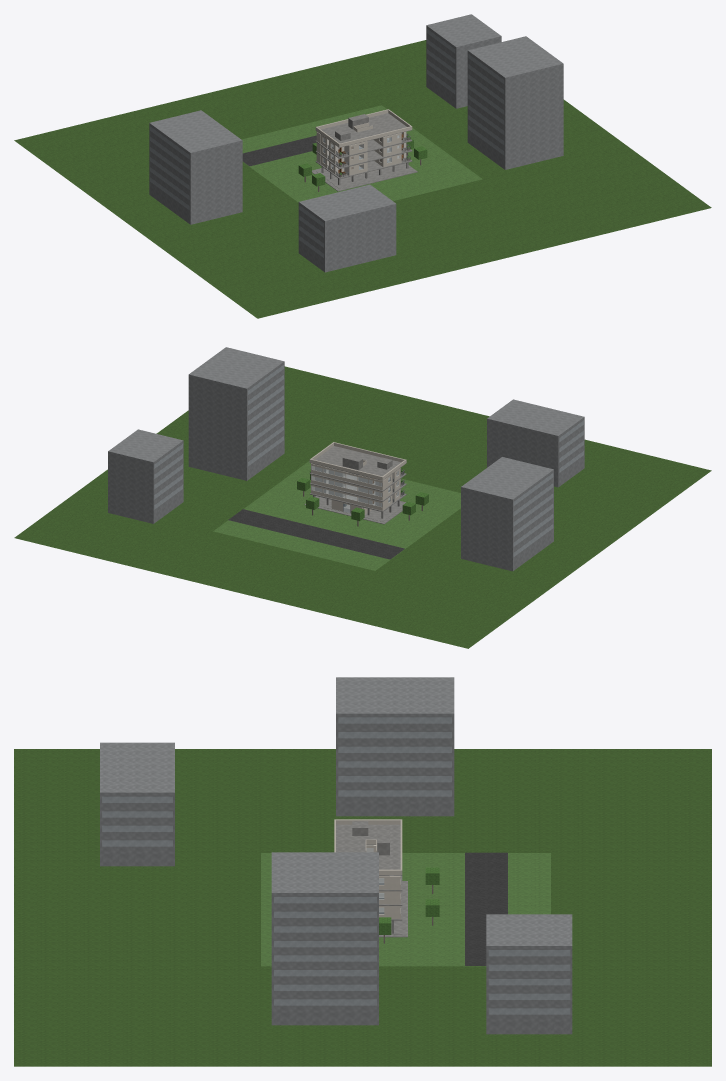
3 views of the same model, one above another, from view 1: azimuth 30°, elevation 25°; view 2: azimuth 150°, elevation 25°; view 3: azimuth 270°, elevation 25° (orthographic). The views are drawn at different scales.
Visible parts, largest first — view 1: merged_WalkthroughVisualizer_Scene, merged_LEVEL__ROOF, merged_LEVEL__L03, merged_LEVEL__L01, merged_LEVEL__L02, merged_LEVEL__L00; view 2: merged_WalkthroughVisualizer_Scene, merged_LEVEL__ROOF, merged_LEVEL__L03, merged_LEVEL__L02, merged_LEVEL__L01, merged_LEVEL__L00; view 3: merged_WalkthroughVisualizer_Scene, merged_LEVEL__ROOF.
Part boxes in pixels (bbox=[...]): merged_WalkthroughVisualizer_Scene: bbox=[14, 14, 711, 318]; merged_LEVEL__ROOF: bbox=[315, 109, 412, 147]; merged_LEVEL__L03: bbox=[315, 132, 412, 158]; merged_LEVEL__L01: bbox=[315, 153, 412, 179]; merged_LEVEL__L02: bbox=[315, 142, 412, 168]; merged_LEVEL__L00: bbox=[316, 164, 411, 188]; merged_WalkthroughVisualizer_Scene: bbox=[14, 347, 711, 648]; merged_LEVEL__ROOF: bbox=[309, 442, 406, 480]; merged_LEVEL__L03: bbox=[309, 463, 406, 491]; merged_LEVEL__L02: bbox=[309, 474, 406, 501]; merged_LEVEL__L01: bbox=[310, 484, 406, 511]; merged_LEVEL__L00: bbox=[318, 497, 404, 521]; merged_WalkthroughVisualizer_Scene: bbox=[14, 677, 711, 1066]; merged_LEVEL__ROOF: bbox=[334, 819, 402, 875].
Bounding box in the file's own units: 140 × 27.3 × 130.
Materials: 12 (11 with a texture image).
